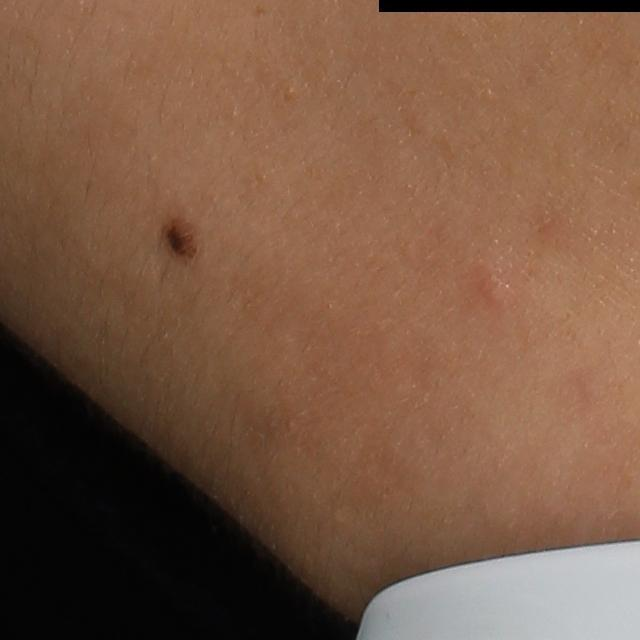nevus: (163, 219, 196, 264)
papule: (476, 271, 510, 310)
